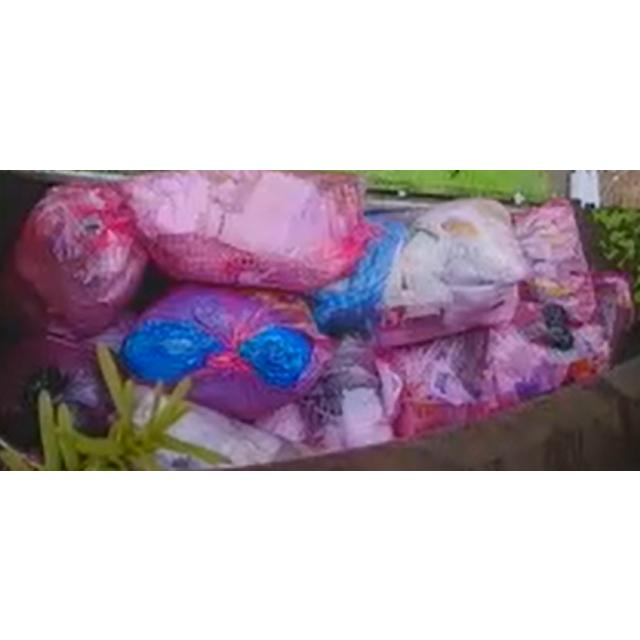other_trashbag: (380, 283, 610, 436), (121, 169, 372, 291), (120, 284, 332, 419), (378, 198, 528, 346), (15, 183, 148, 335), (0, 310, 135, 452), (515, 198, 596, 322)
